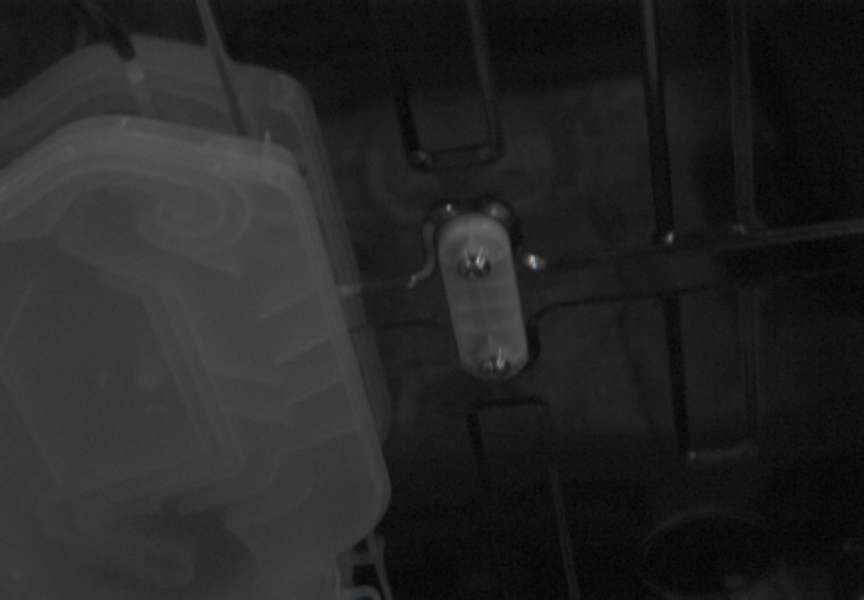screw: (457, 249, 492, 280), (480, 350, 511, 379)
